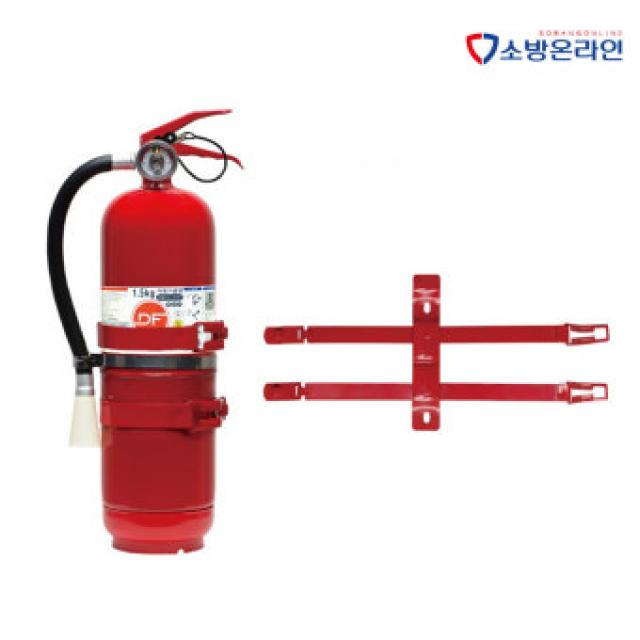pressure gauge: (136, 142, 178, 180)
